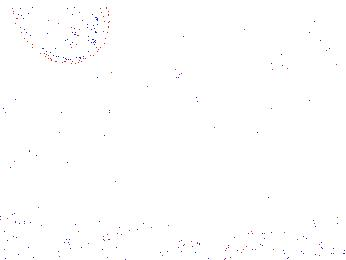moon jellyfish: (11, 1, 111, 65), (115, 38, 197, 109), (76, 71, 139, 140), (277, 7, 329, 78), (198, 5, 265, 60)
